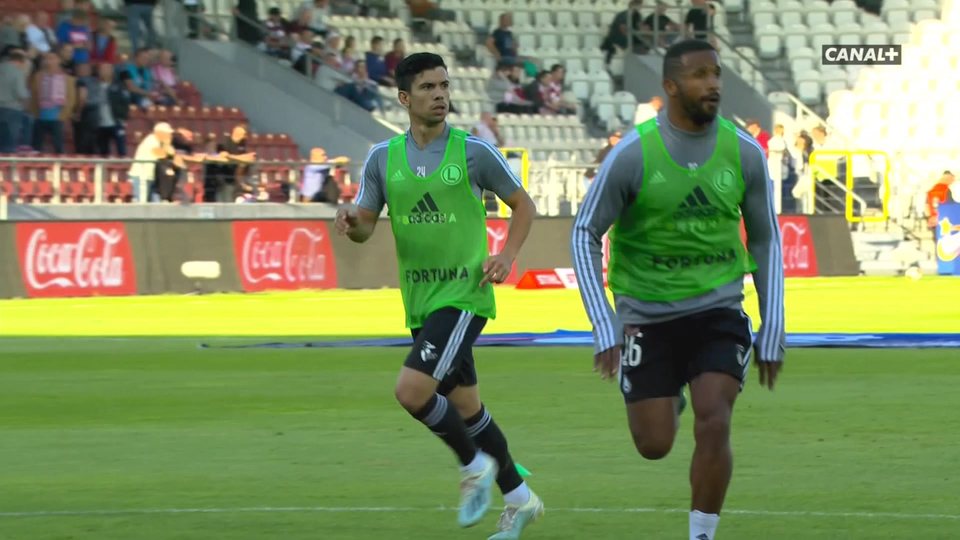Adidas: (672, 186, 720, 218), (407, 190, 446, 225)
